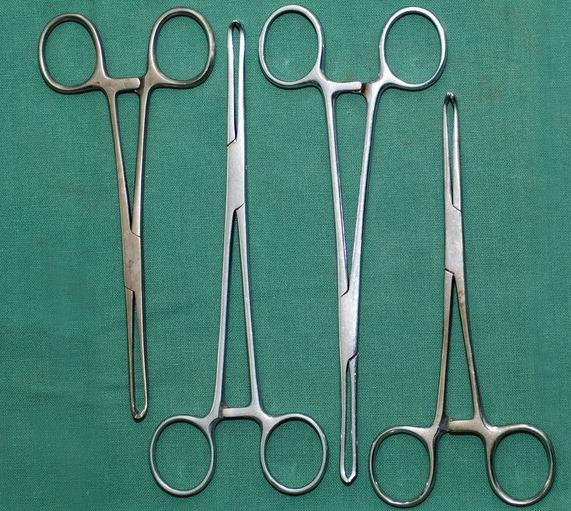Allis Forceps: (254, 5, 452, 488), (147, 15, 335, 506), (368, 88, 568, 509), (25, 7, 222, 425)
